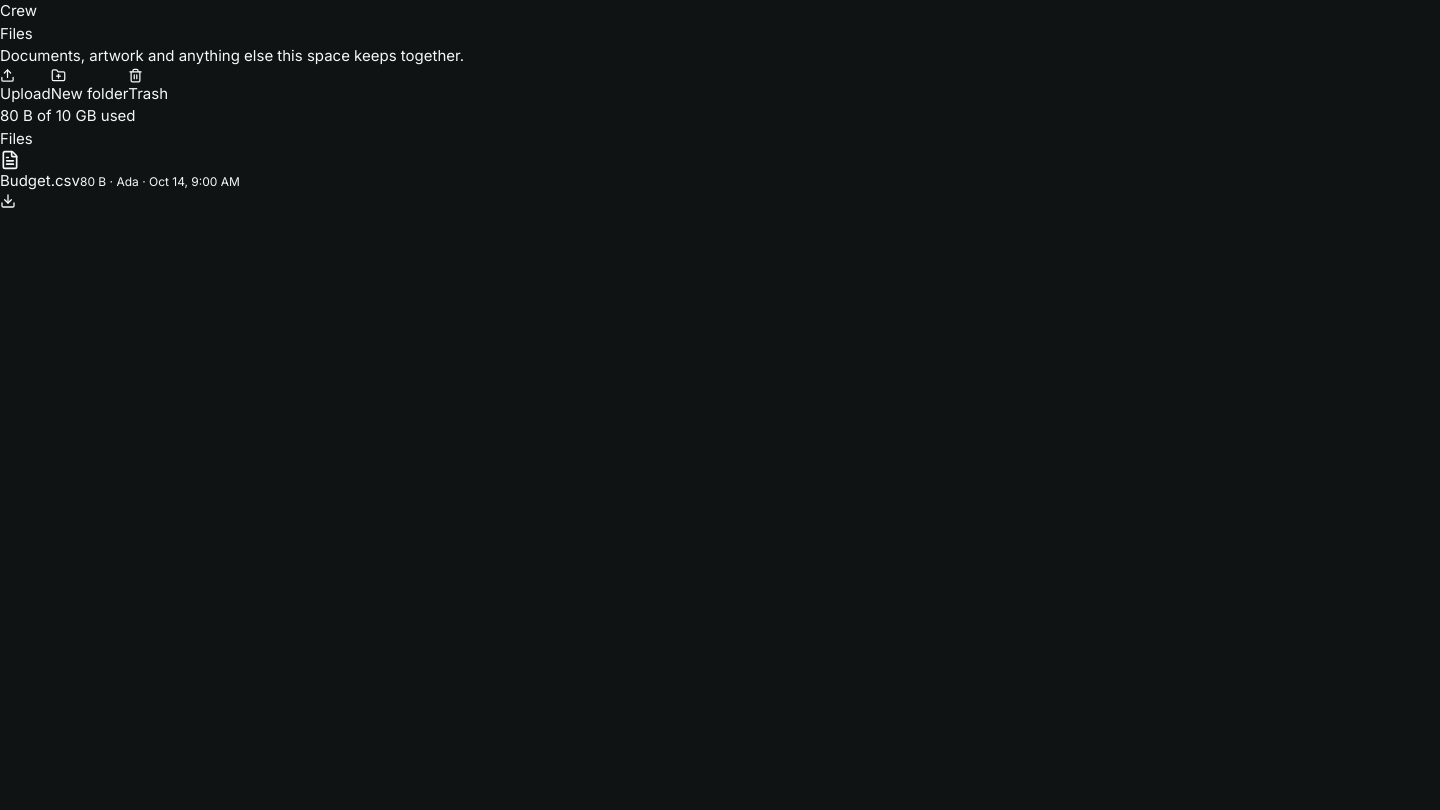
Test: reads a CSV as a table, and as text on request
This screenshot has width=1440, height=810.
Click the button "Budget.csv": (40, 181) [0,170,80,192]
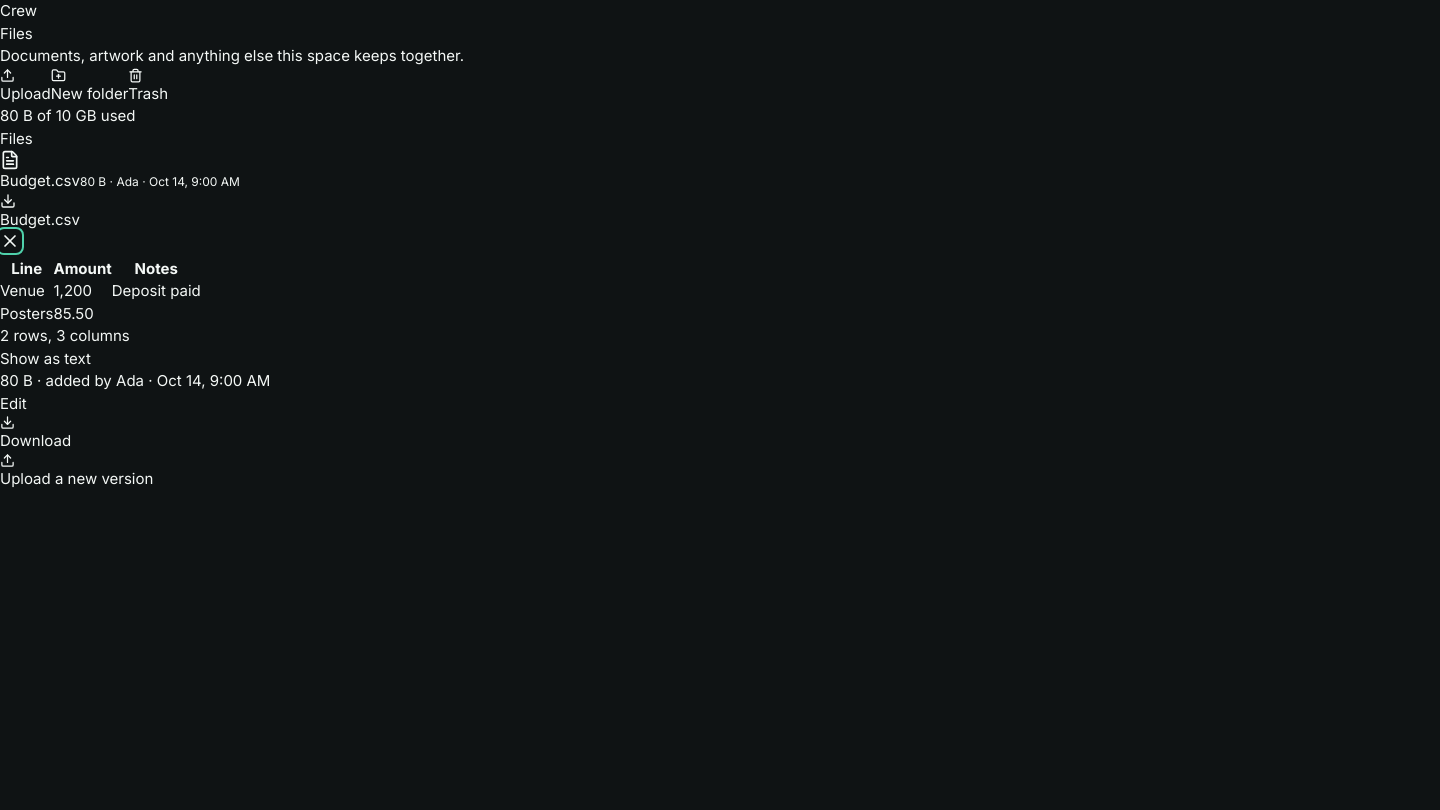
expect the column headings read "Line", "Amount", "Notes", in this order: met, box [0,258,54,280]; [54,258,112,280]; [112,258,201,280]
expect the text "2 rows, 3 columns" is shown: met, box [0,326,130,345]
Click the button "Show as text": (45, 359) [0,348,91,370]
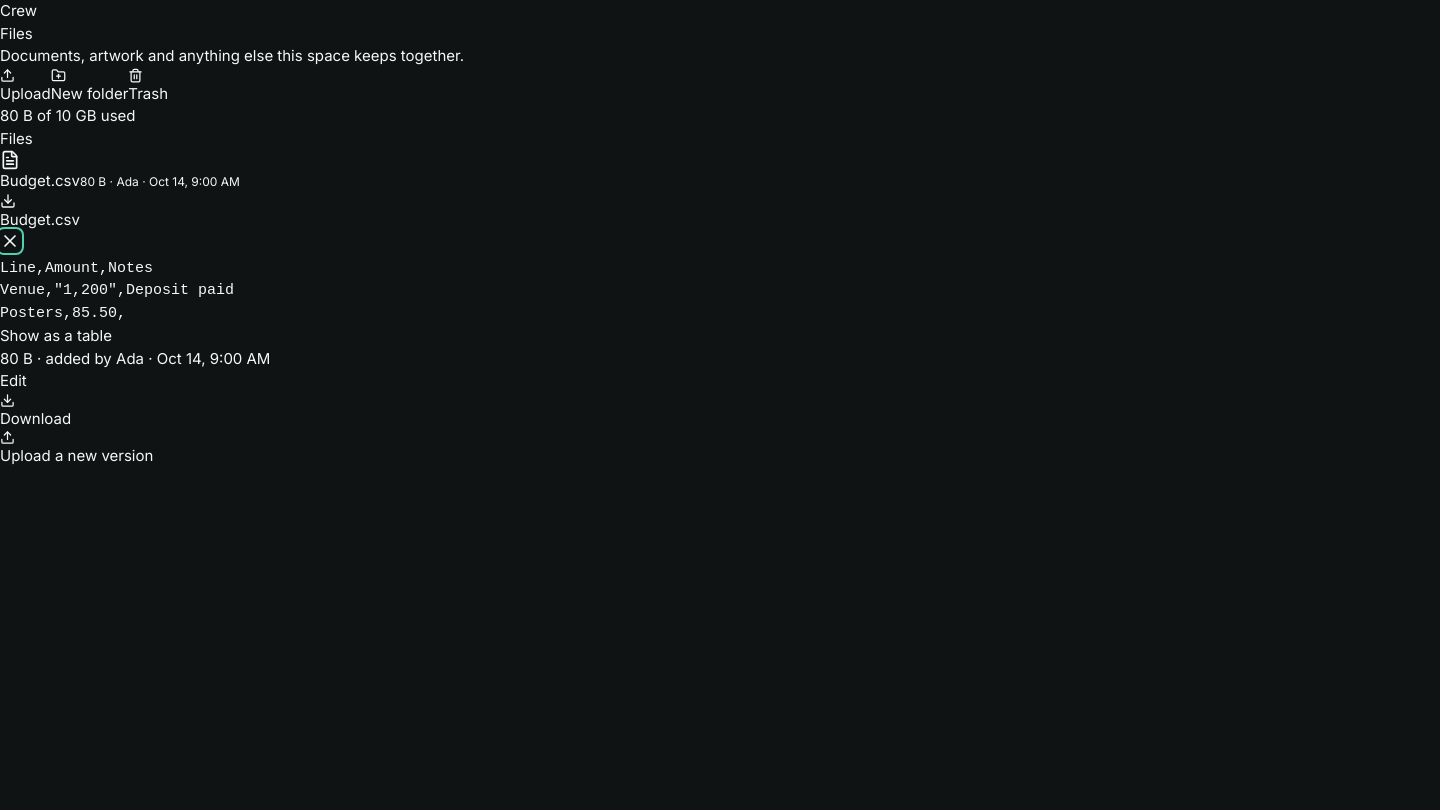
expect the table is gone: met
expect the text "Line,Amount,Notes Venue,\"1,200\",Deposit paid Posters,85.50," is shown: met, box [0,260,234,322]
